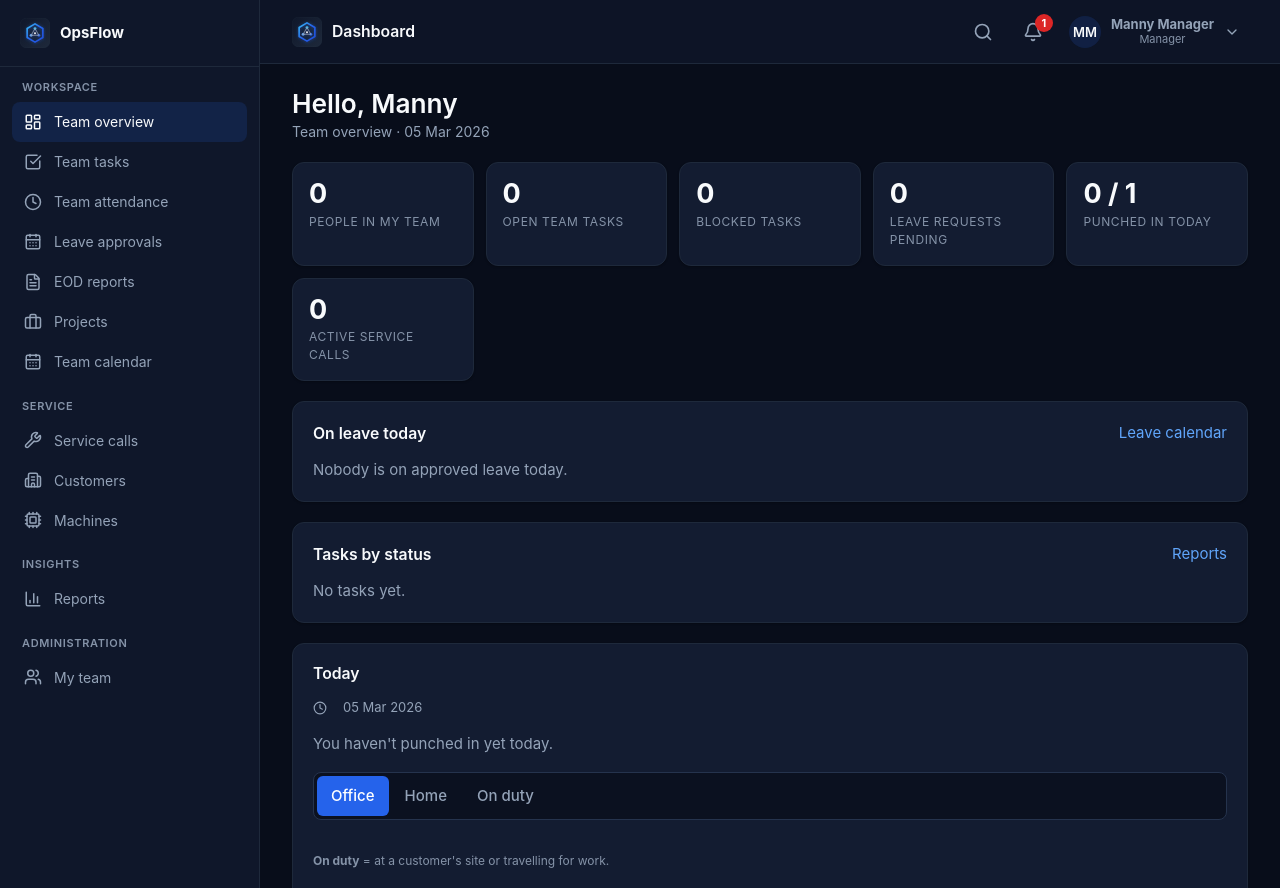
Test: Notification centre (header) › a notification that names no record opens its details instead
Click the button named "Notifications, 1 unread".
click(1033, 32)  # box [1011,10,1055,54]
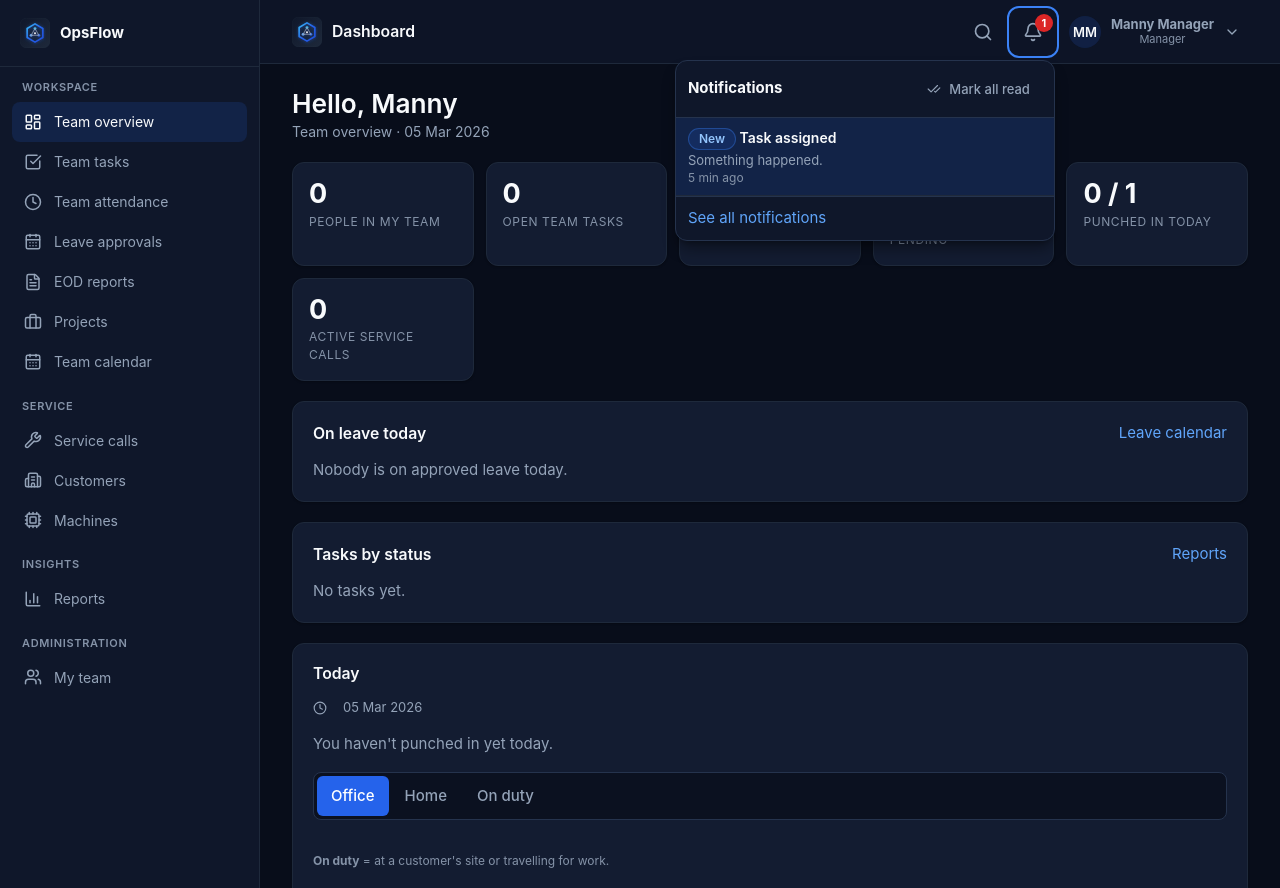
Click the button "New Task assigned Something happened. 5 min ago".
click(712, 139)  # box [676,118,1054,196]
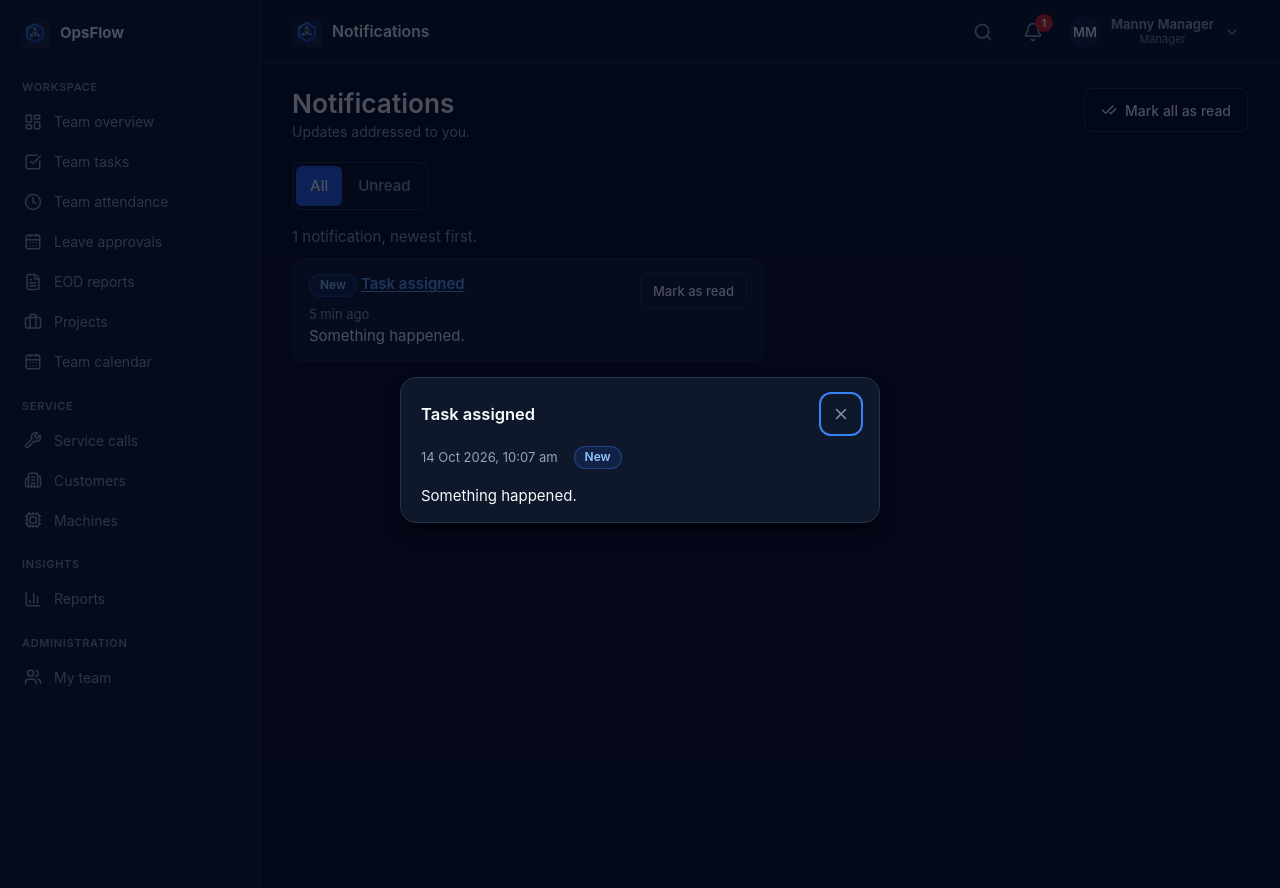
Expected: the dialog "Task assigned" is shown, [400,377,880,523]
